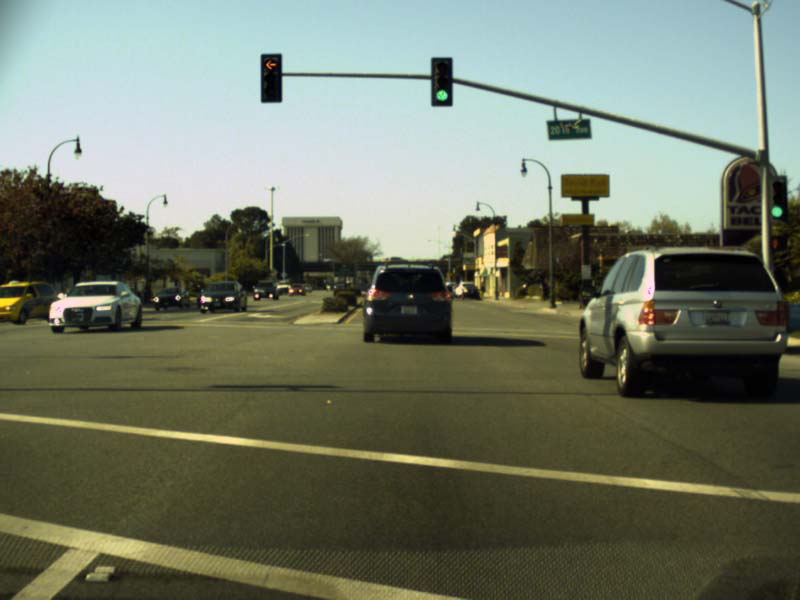Green: (431, 57, 452, 105), (769, 179, 783, 218)
Red: (260, 54, 280, 102)
